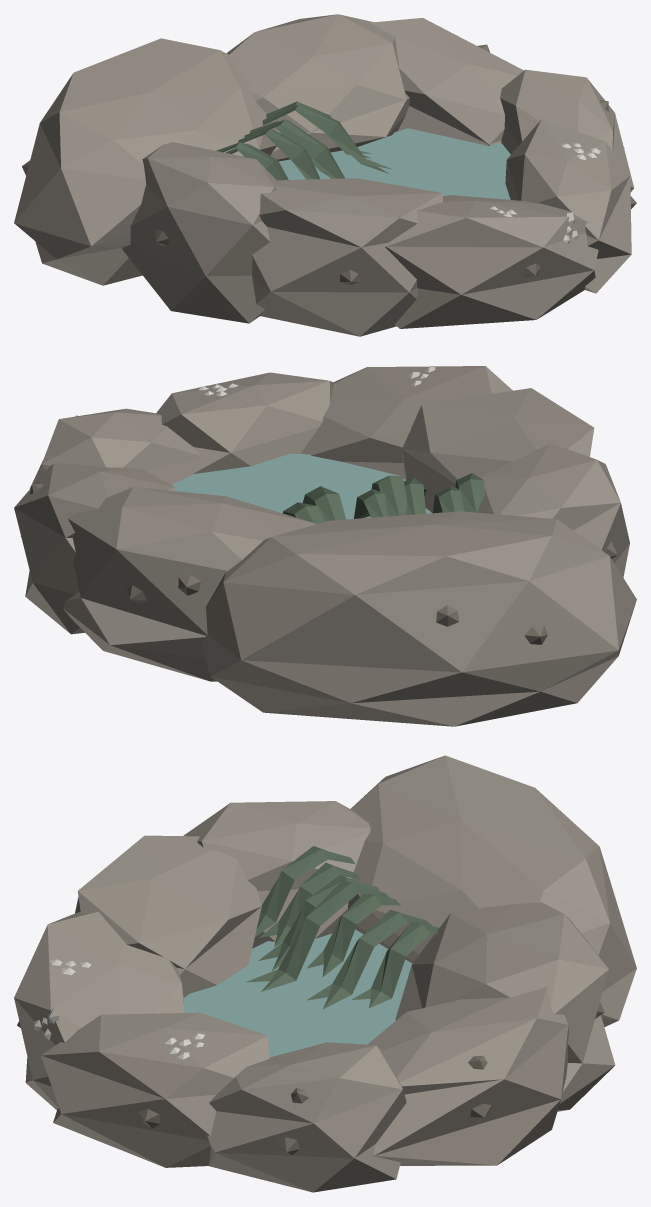
File: rock-pool-937f01.glb
3 renders of one model, top to bottom at view 1: azimuth 30°, elevation 25°; view 2: azimuth 150°, elevation 25°; view 3: azimuth 270°, elevation 25°, orthographic. The views are drawn at different scales.
Parts seen in each view (by area): view 1: rock-pool-937f01; view 2: rock-pool-937f01; view 3: rock-pool-937f01.
Part boxes in pixels (bbox=[...]): rock-pool-937f01: bbox=[14, 14, 636, 336]; rock-pool-937f01: bbox=[14, 366, 636, 726]; rock-pool-937f01: bbox=[14, 755, 636, 1192].
Size of the model in its own units: 1.4 by 0.35 by 1.2.
